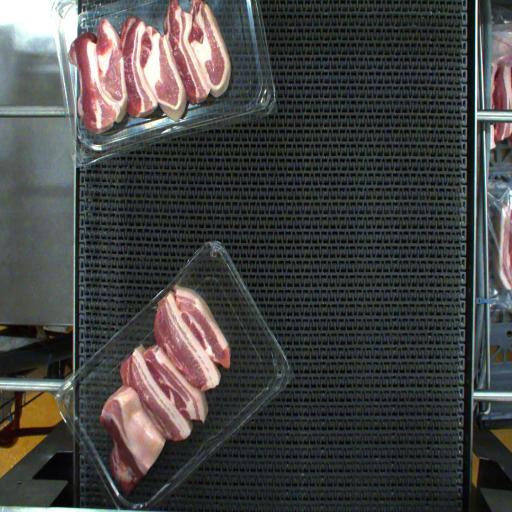packaging-error: (149, 267, 194, 315)
